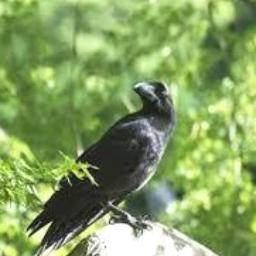Crow: (25, 77, 175, 256)
